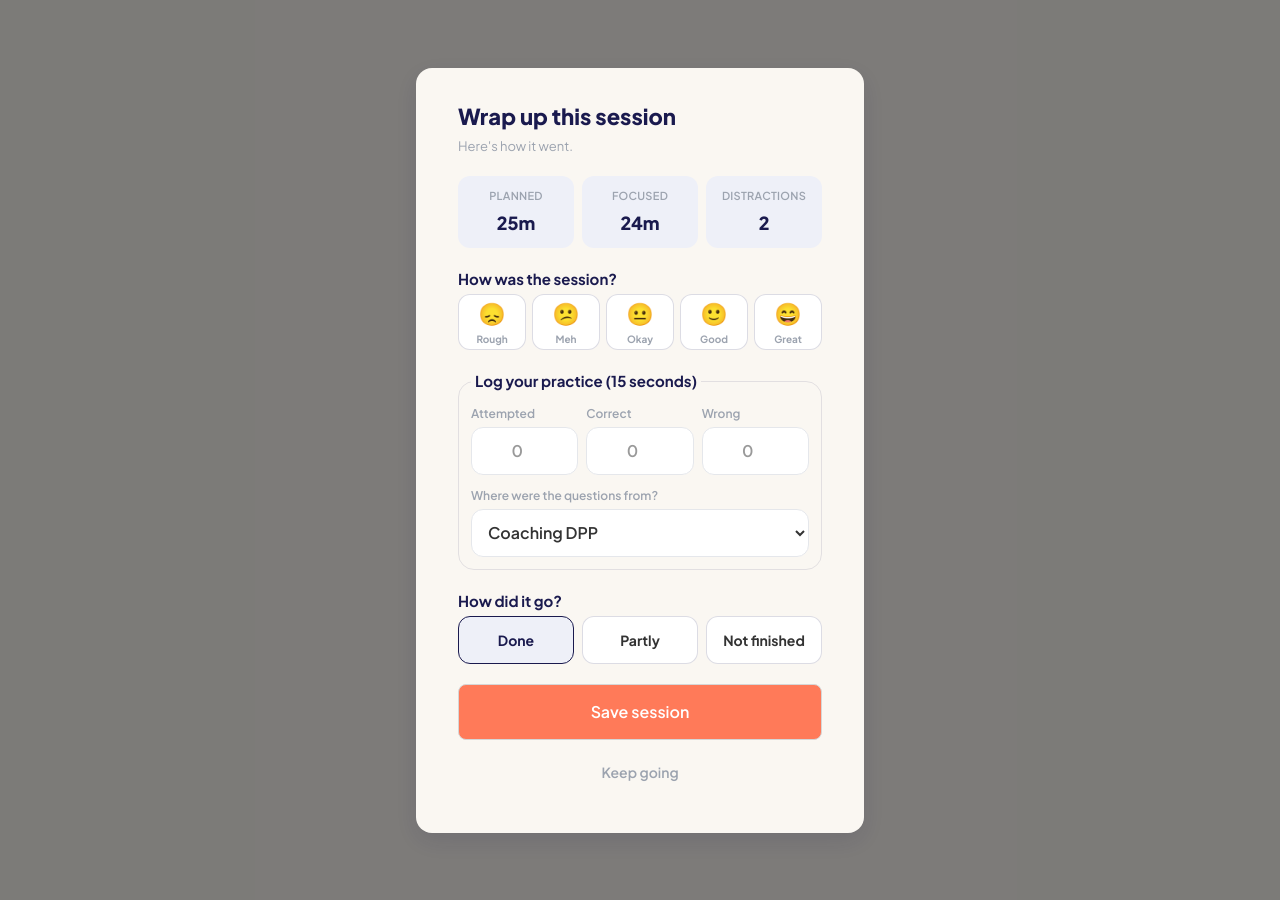
Test: FocusSummaryModal › says when no chapter was chosen, so the practice cannot be filed
In the number field with test id "sheet-attempted": (525, 450) [471, 426, 578, 474], type "5"
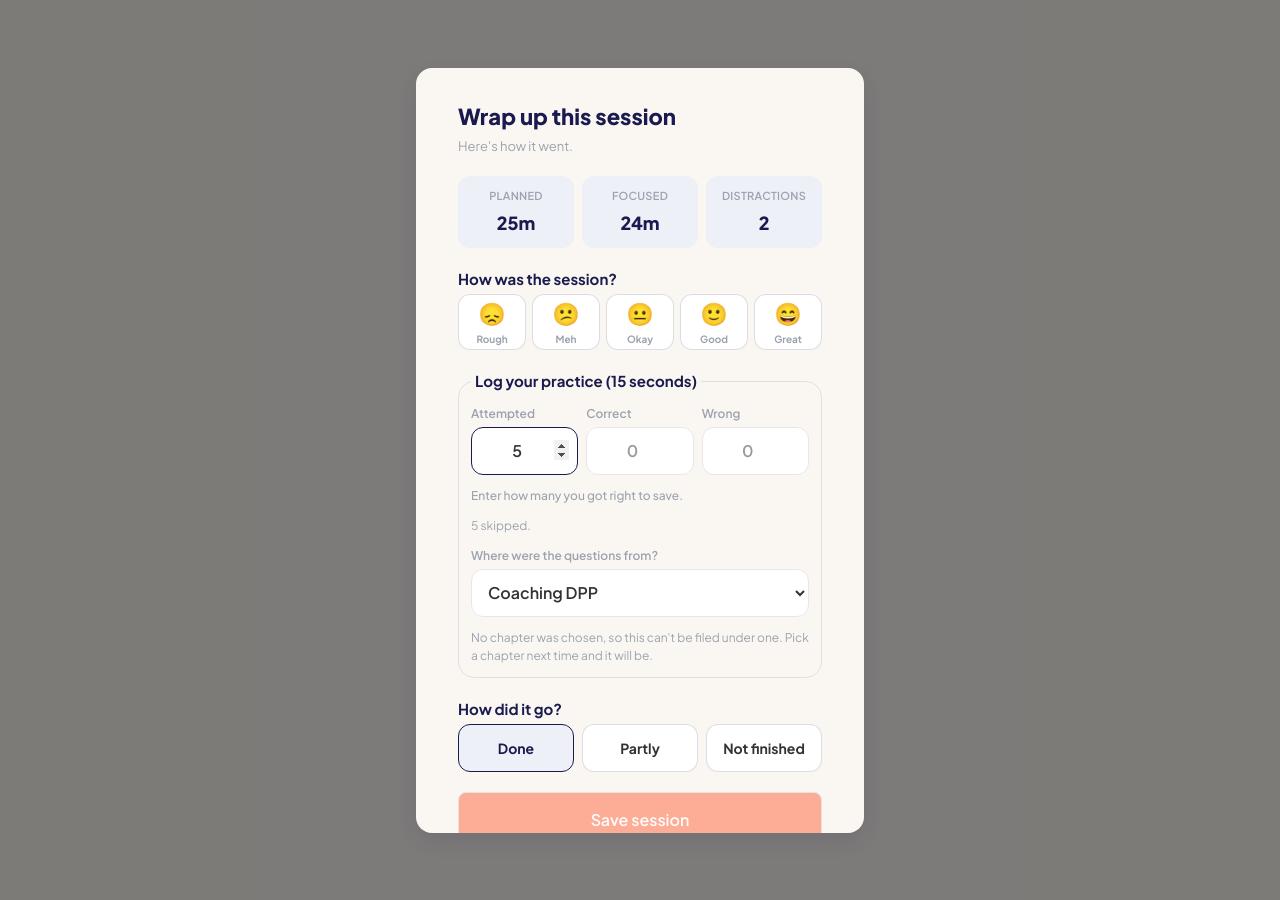
Now the text with test id "sheet-no-chapter" is shown, box [471, 628, 809, 664]
